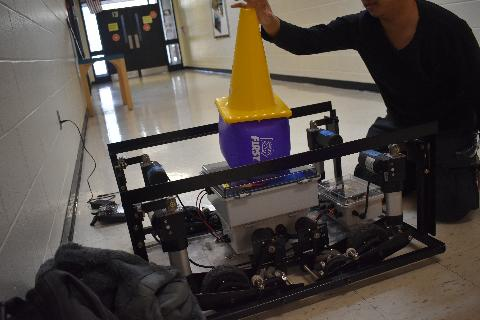cone: (214, 8, 292, 124)
cube: (219, 114, 291, 168)
